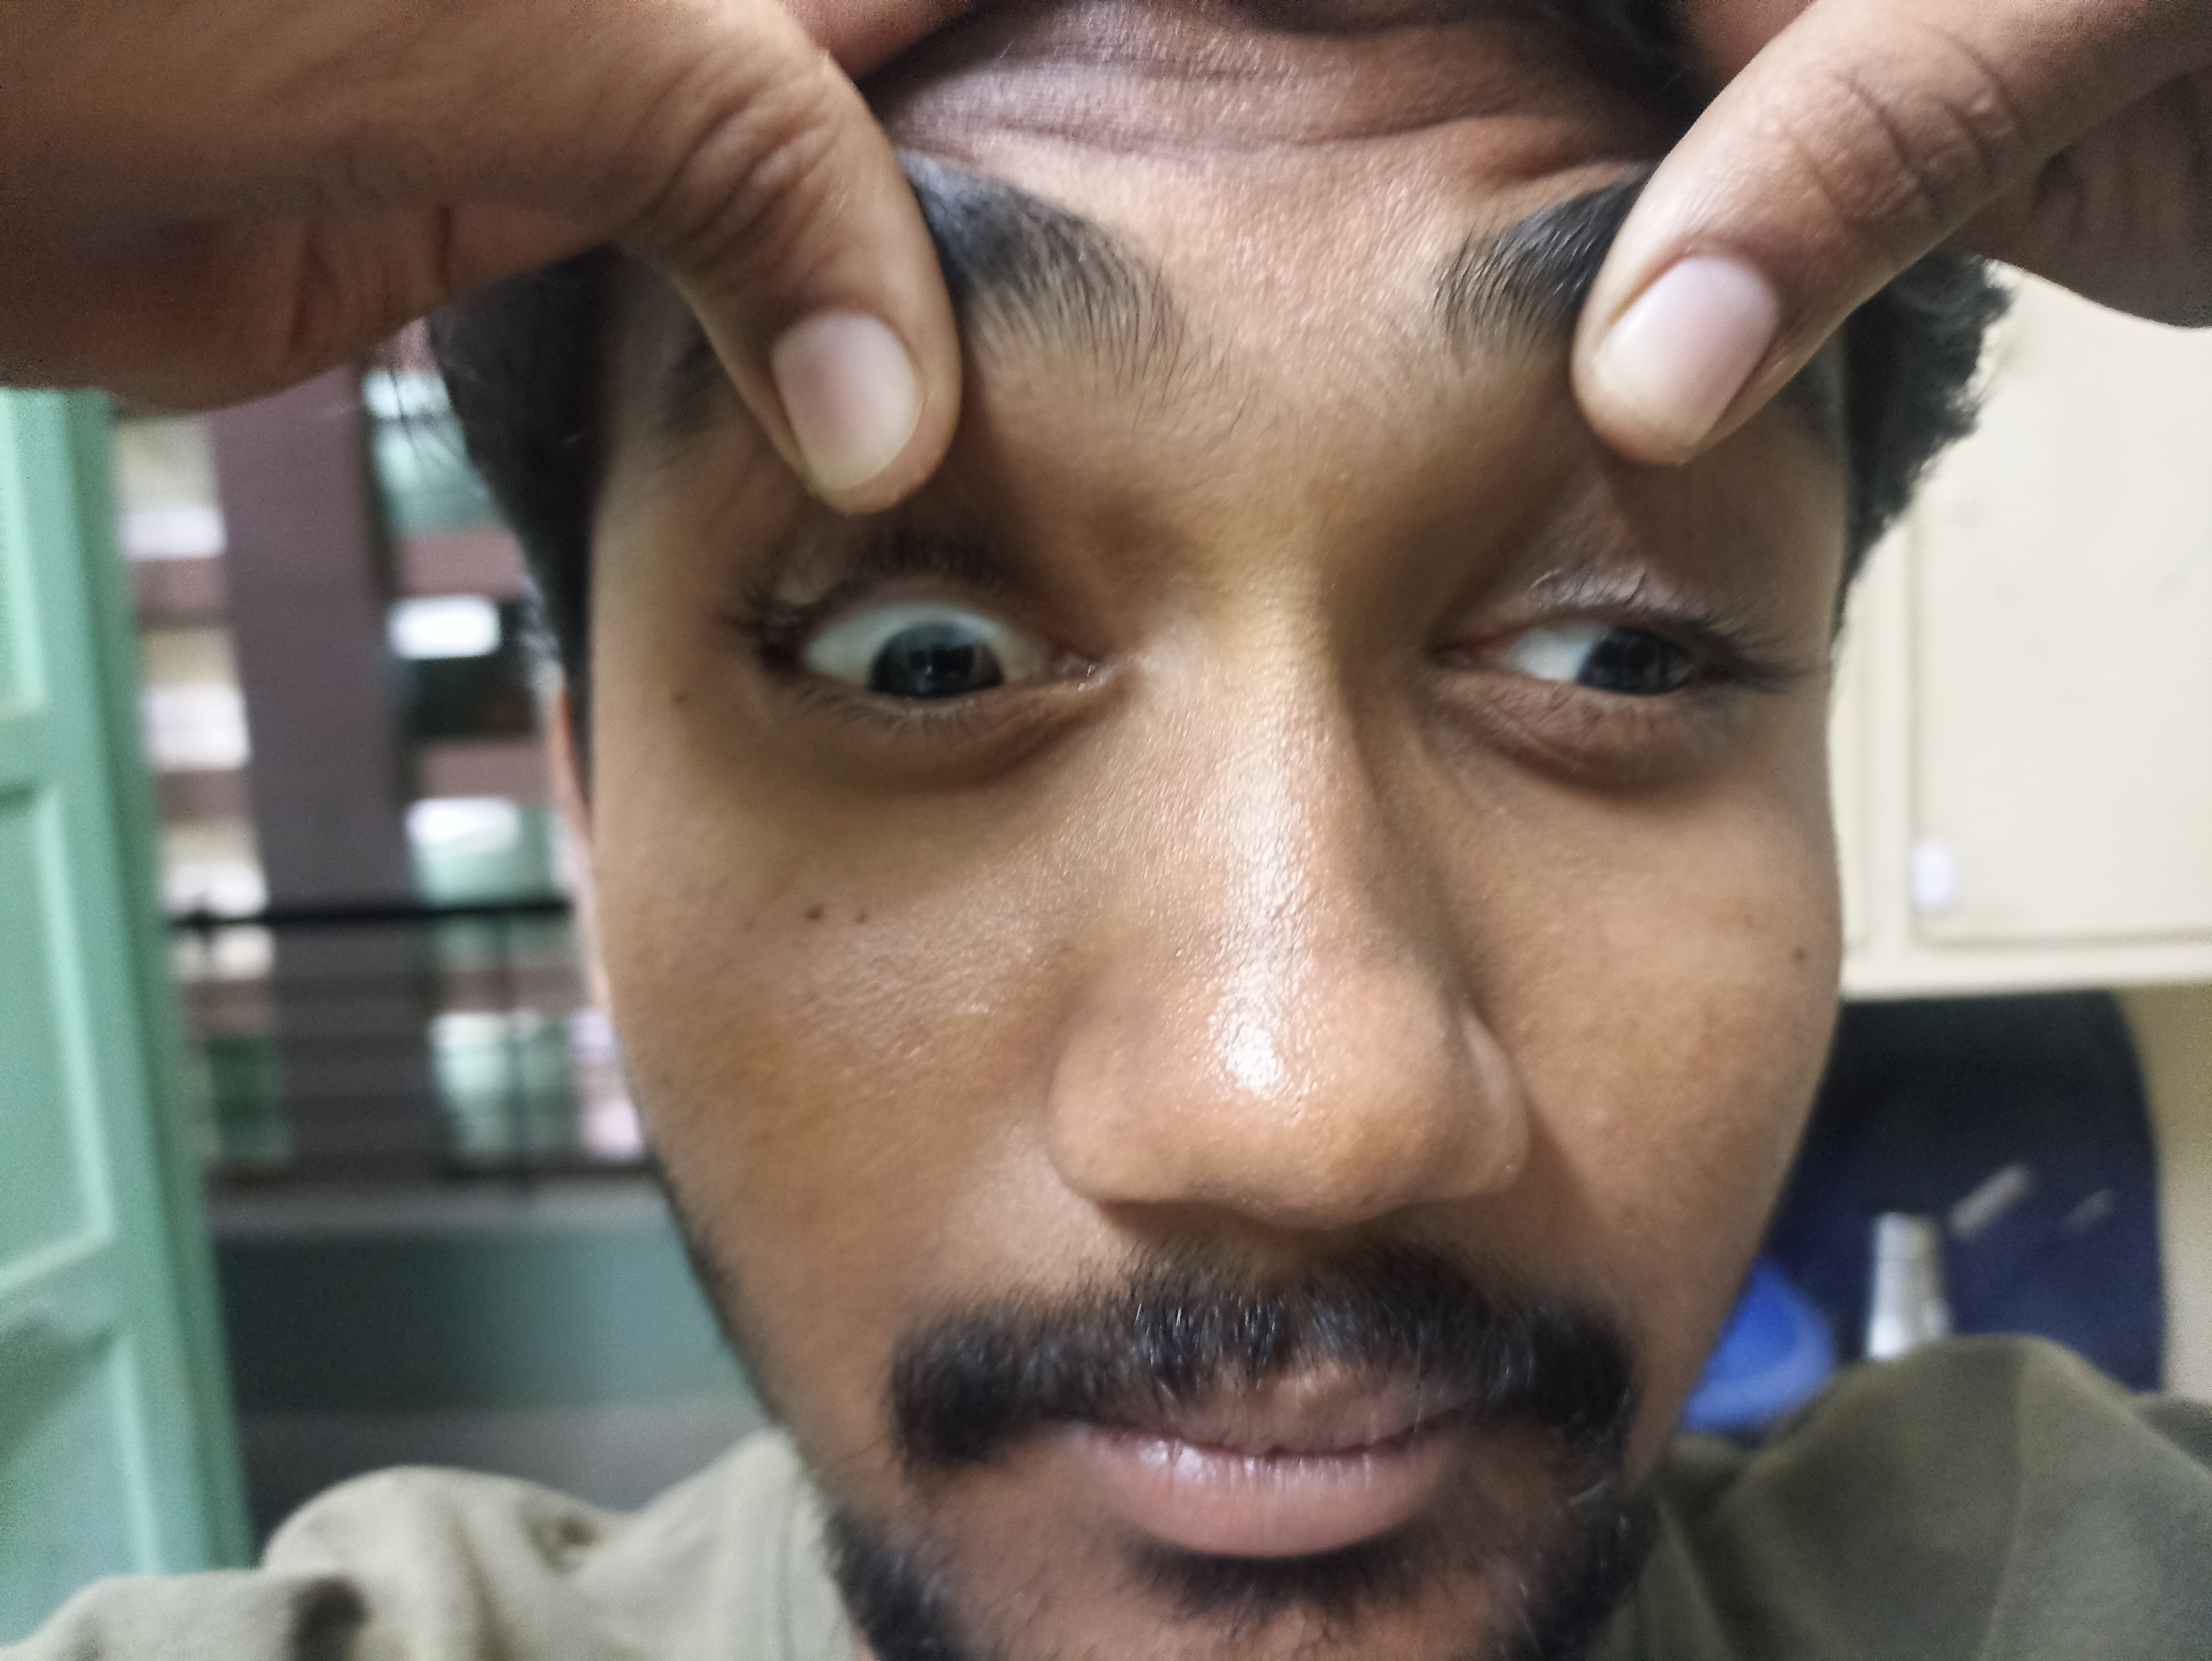EYE DOWN: (1364, 396, 1914, 902), (609, 398, 1137, 850)
